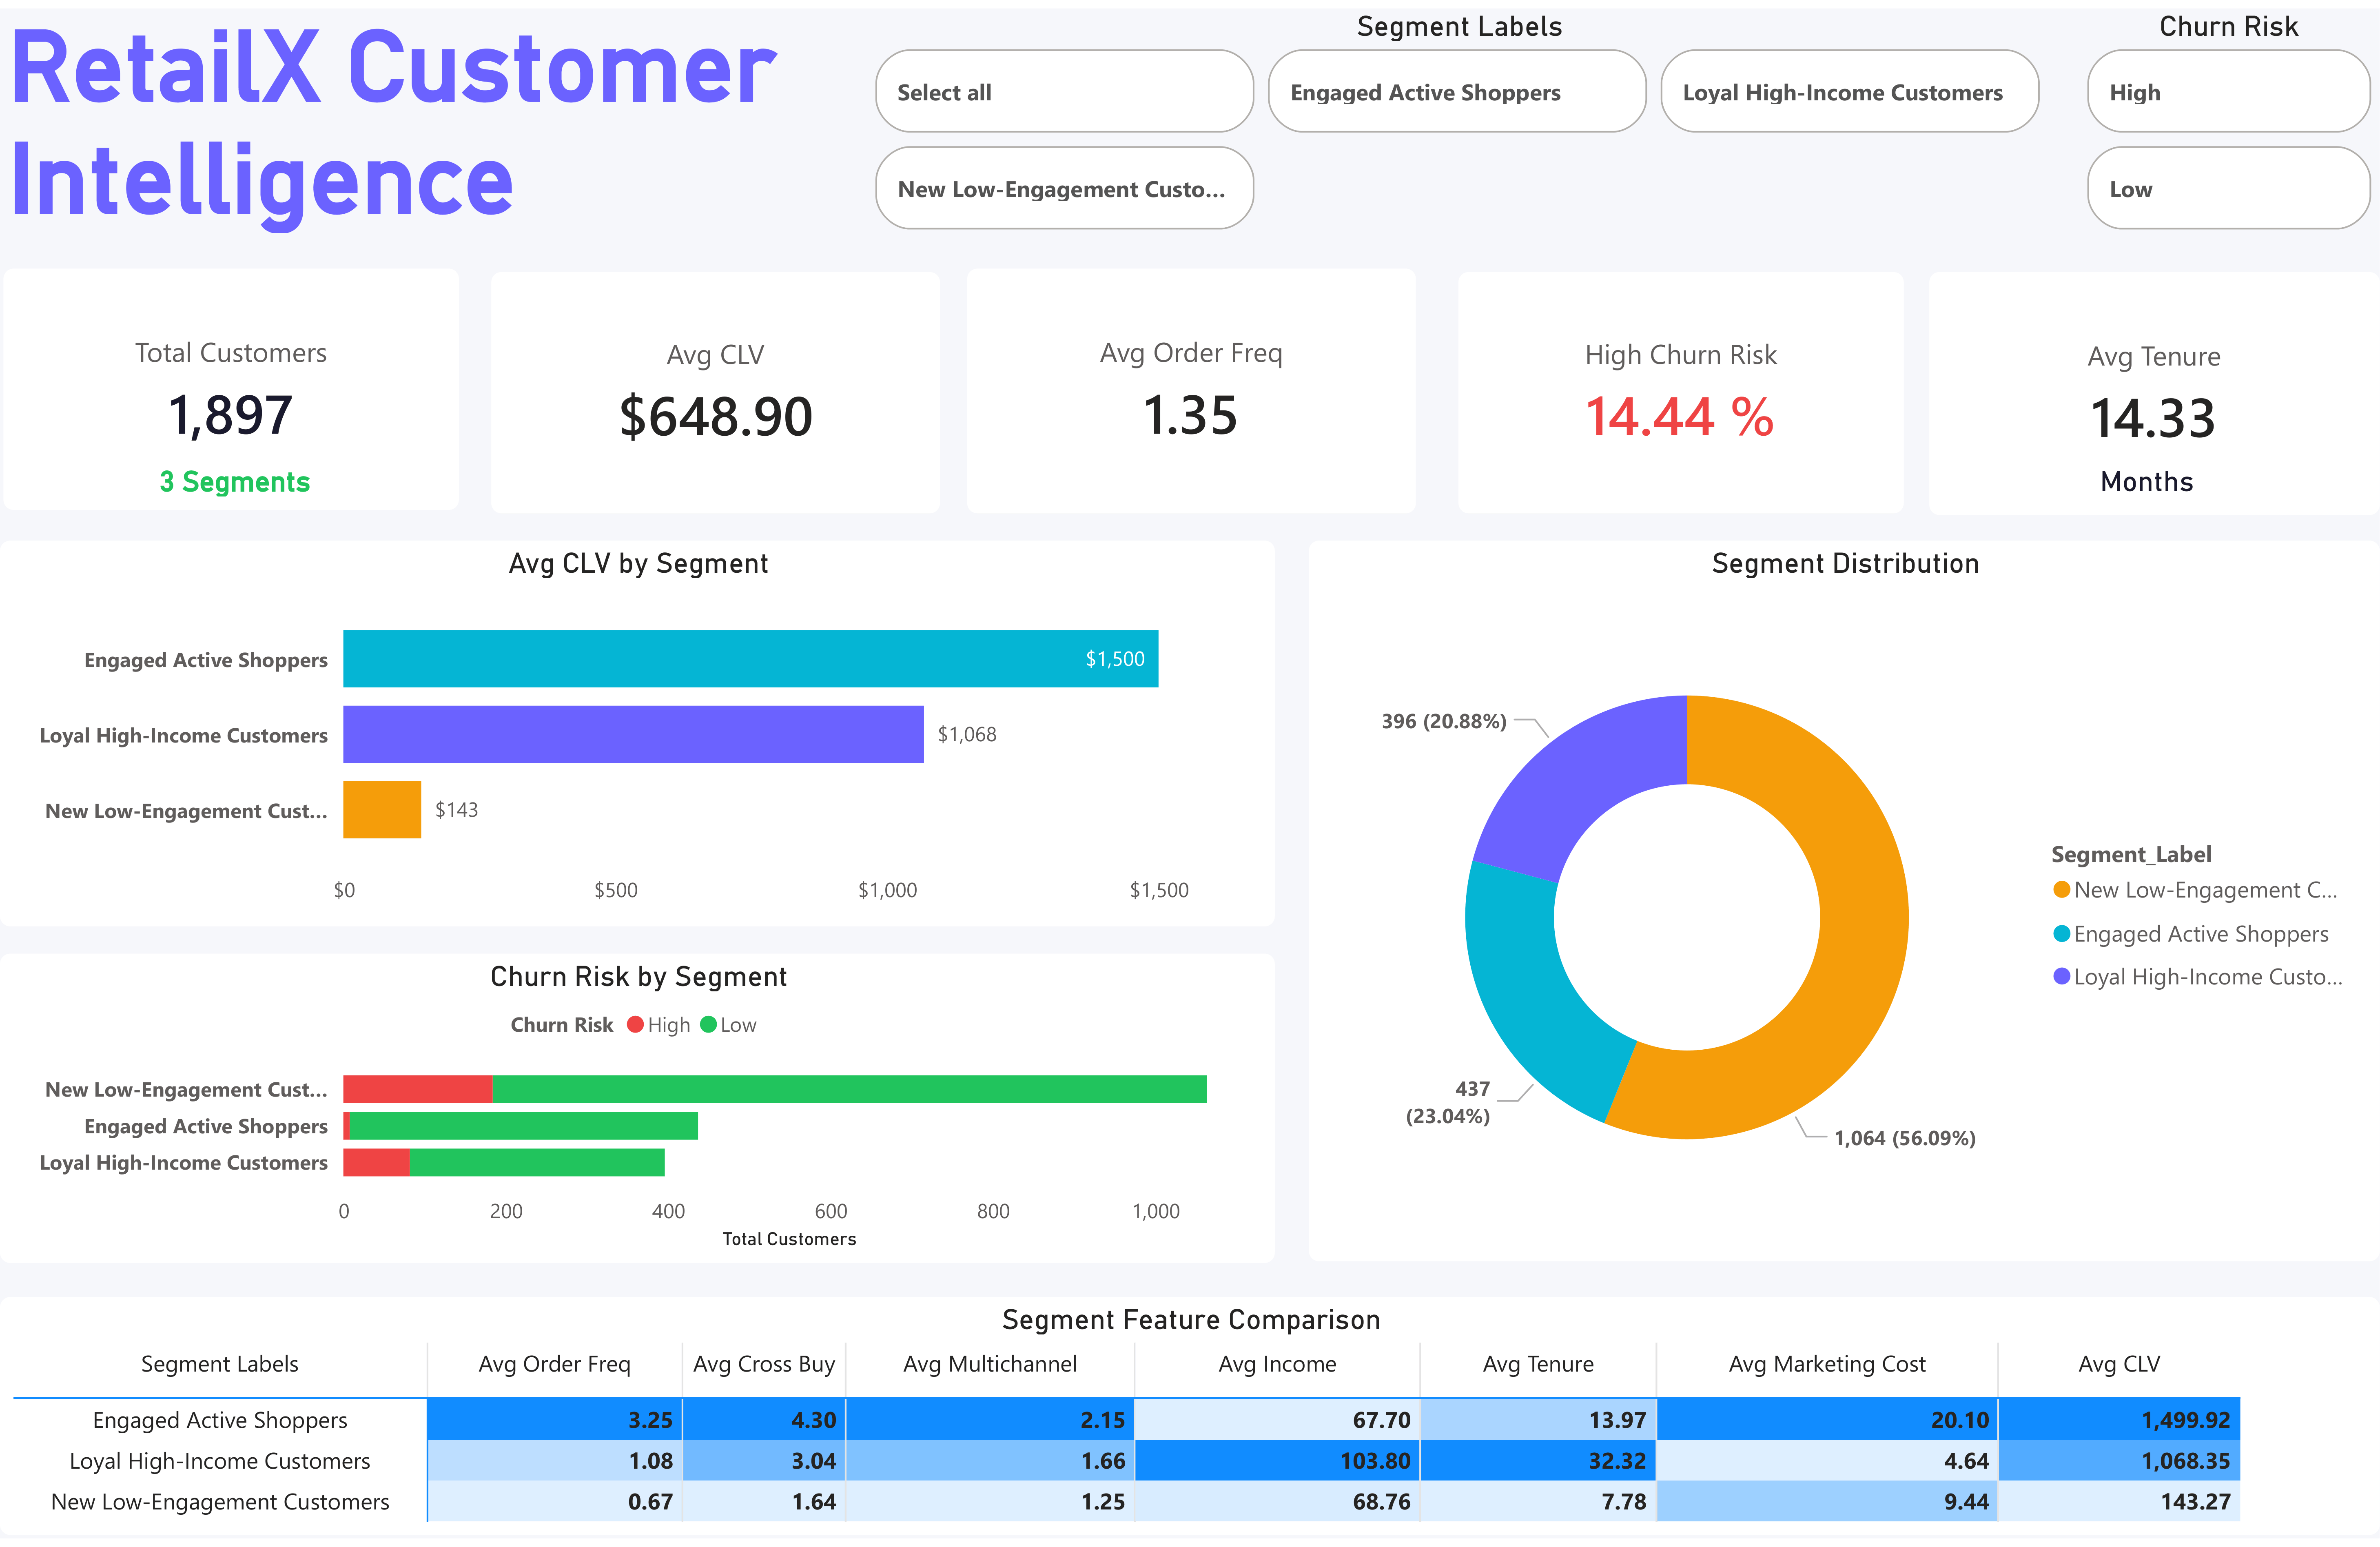

This screenshot's page, from the dashboard's own definition file:
{"tool":"powerbi","page":{"name":"Page 1","canvas":[1400,900],"ordinal":0},"visuals":[{"type":"textbox","title":"RetailX Customer Intelligence","box":[0,0,509.9,151.2],"z":0},{"type":"advancedSlicerVisual","title":"Segment Labels","fields":{"Values":["Sheet1.Segment_Label"]},"box":[509.7,0,697.8,135.6],"z":1000},{"type":"advancedSlicerVisual","title":"Churn Risk","fields":{"Values":["Sheet1.Churn_Risk"]},"box":[1222.8,0,177.2,135.6],"z":2000},{"type":"cardVisual","fields":{"Data":["Sheet1.Total Customers"]},"box":[2,153,268,142],"z":3000},{"type":"cardVisual","fields":{"Data":["Sheet1.Avg CLV"]},"box":[289.1,155.1,264.3,141.7],"z":4000},{"type":"pivotTable","title":"Segment Feature Comparison","fields":{"Values":["Sheet1.Avg Order Freq","Avg(Sheet1.crossbuy)","Avg(Sheet1.multichannel)","Avg(Sheet1.income)","Avg(Sheet1.tenure)","Avg(Sheet1.avg_mktg_cnt)","Avg(Sheet1.CLV)"],"Rows":["Sheet1.Segment_Label"]},"box":[0,758.3,1400,140.4],"z":5000},{"type":"cardVisual","fields":{"Data":["Sheet1.Avg Order Freq"]},"box":[568.7,153.2,264.3,143.6],"z":6001},{"type":"donutChart","title":"Segment Distribution","fields":{"Category":["Sheet1.Segment_Label"],"Y":["Sheet1.Total Customers"]},"box":[770,312.8,630,424.4],"z":6003},{"type":"cardVisual","fields":{"Data":["Sheet1.High Churn %"]},"box":[857.9,155.1,262.3,141.7],"z":6004},{"type":"cardVisual","fields":{"Data":["Sheet1.Avg Tenure"]},"box":[1135,155,265,143],"z":6005},{"type":"clusteredBarChart","title":"Avg CLV by Segment","fields":{"Category":["Sheet1.Segment_Label"],"Y":["Sheet1.Avg CLV"]},"box":[0,313.3,749.7,226.9],"z":6006},{"type":"barChart","title":"Churn Risk by Segment","fields":{"Category":["Sheet1.Segment_Label"],"Y":["Sheet1.Total Customers"],"Series":["Sheet1.Churn_Risk"]},"box":[0,555.6,750.3,181.6],"z":6007},{"type":"textbox","title":"3 Segments","box":[0,267.9,276.5,28.1],"z":6008},{"type":"textbox","title":"Months","box":[1125.6,267.9,274.4,28.1],"z":6009}]}

Visuals, with their boxes in screenshot pixels (x1, y1, x2, y2), scaled from the page's 1400x900 canvas onto the 2380x1547 screenshot:
"RetailX Customer Intelligence" textbox: locate(0, 0, 867, 260)
"Segment Labels" advancedSlicerVisual: locate(866, 0, 2053, 233)
"Churn Risk" advancedSlicerVisual: locate(2079, 0, 2380, 233)
cardVisual - Sheet1.Total Customers: locate(3, 263, 459, 507)
cardVisual - Sheet1.Avg CLV: locate(492, 266, 941, 510)
"Segment Feature Comparison" pivotTable: locate(0, 1303, 2380, 1545)
cardVisual - Sheet1.Avg Order Freq: locate(967, 263, 1416, 510)
"Segment Distribution" donutChart: locate(1309, 538, 2380, 1267)
cardVisual - Sheet1.High Churn %: locate(1458, 266, 1904, 510)
cardVisual - Sheet1.Avg Tenure: locate(1930, 266, 2380, 512)
"Avg CLV by Segment" clusteredBarChart: locate(0, 539, 1274, 929)
"Churn Risk by Segment" barChart: locate(0, 955, 1276, 1267)
"3 Segments" textbox: locate(0, 461, 470, 509)
"Months" textbox: locate(1914, 461, 2380, 509)
